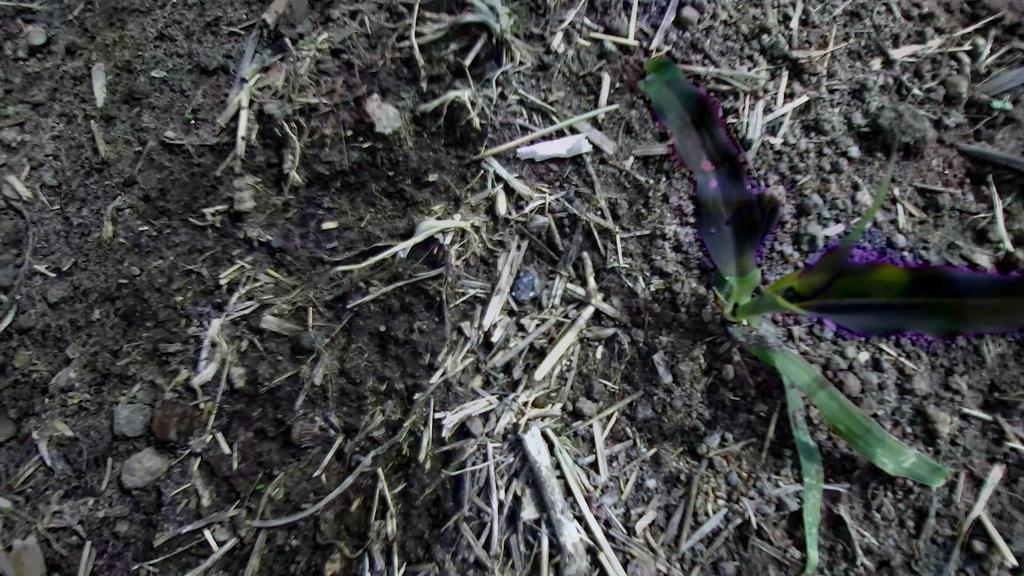BroWeed: (0, 292, 24, 335), (348, 445, 385, 471), (959, 26, 990, 57), (162, 361, 190, 387), (26, 26, 55, 51), (12, 345, 33, 370), (243, 225, 262, 248), (149, 67, 169, 82), (62, 395, 83, 408), (990, 100, 1013, 111), (0, 104, 17, 118), (205, 214, 222, 227), (592, 484, 605, 499), (935, 14, 946, 29), (949, 561, 959, 576), (995, 242, 1008, 253), (183, 111, 196, 122), (255, 482, 265, 490), (958, 571, 965, 576)
